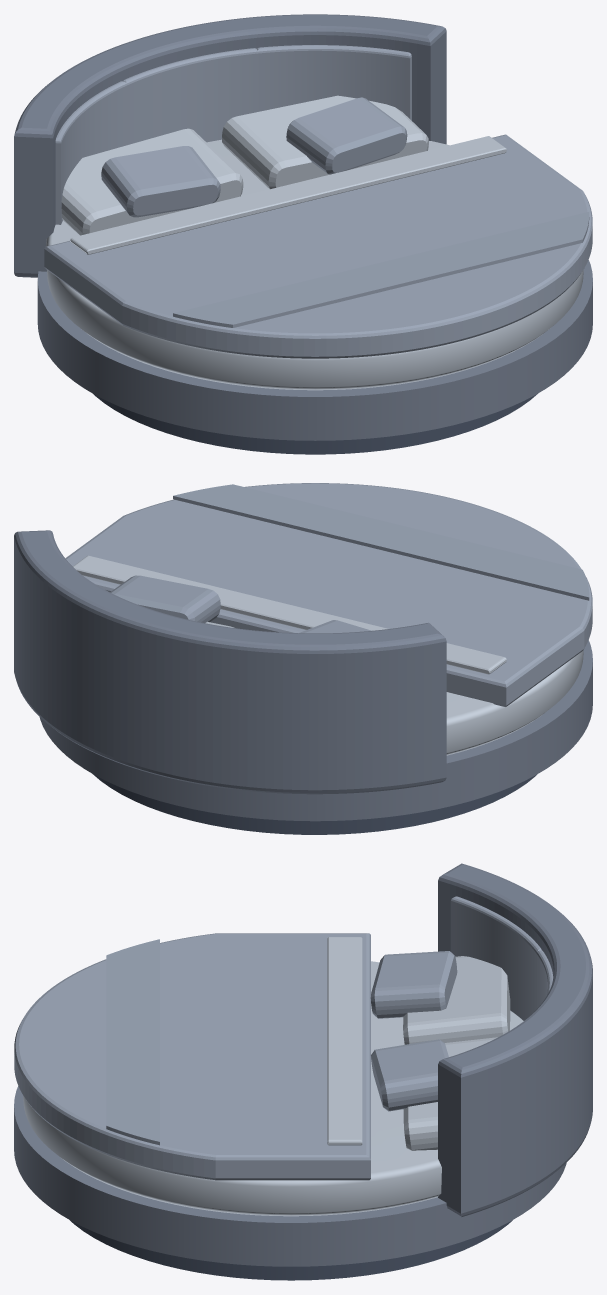
Rendered from 圆形双人床-lite.glb.
3 renders of one model, top to bottom at view 1: azimuth 30°, elevation 25°; view 2: azimuth 150°, elevation 25°; view 3: azimuth 270°, elevation 25°, orthographic.
Visible parts, largest first — view 1: soft, body, light, accent, dark; view 2: body, soft, accent, light, dark; view 3: soft, body, light, accent, dark.
Boxes of the visible parts, <box> form: soft: <box>44,45,592,358</box>; body: <box>14,14,592,440</box>; light: <box>45,95,583,390</box>; accent: <box>101,97,589,327</box>; dark: <box>93,393,537,454</box>; body: <box>14,530,592,821</box>; soft: <box>65,483,592,706</box>; accent: <box>110,484,589,633</box>; light: <box>73,555,583,755</box>; dark: <box>93,774,536,834</box>; soft: <box>14,896,553,1180</box>; body: <box>14,863,592,1266</box>; light: <box>23,937,523,1216</box>; accent: <box>106,939,457,1145</box>; dark: <box>70,1220,512,1280</box>.
Bounding box in the file's own units: 2.07 × 0.8709 × 2.16.
